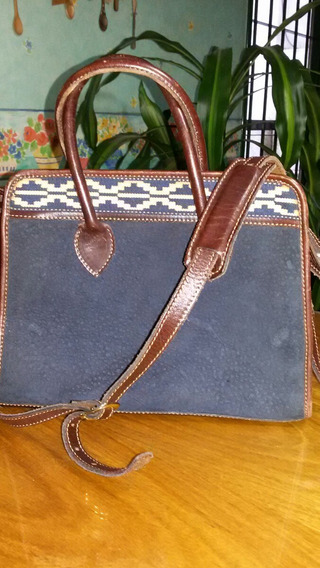cartera: (2, 53, 320, 423)
